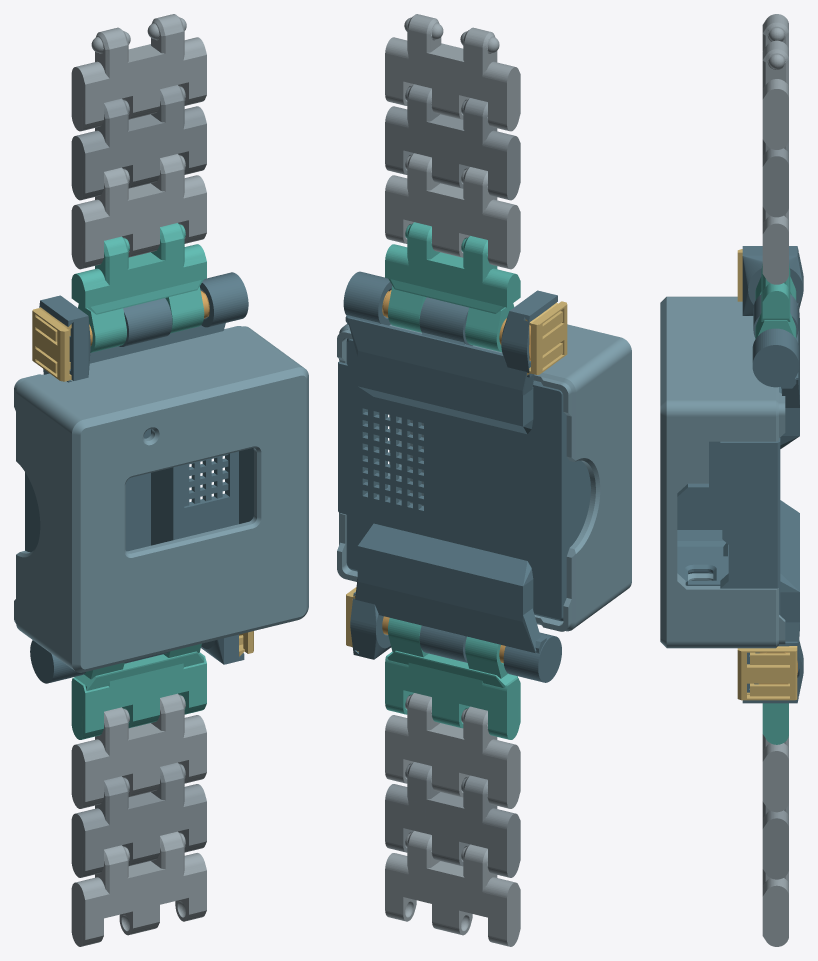
The model's file is 装配预览.glb.
3 renders of one model, left to right at view 1: azimuth 30°, elevation 25°; view 2: azimuth 150°, elevation 25°; view 3: azimuth 270°, elevation 25°, orthographic. The views are drawn at different scales.
Parts seen in each view (by area): view 1: Original front, Modified rear, Adapter A, Reference link A3, Reference link B3, Reference link B2, Reference link A1, Reference link A2, Reference link B1, Adapter B, Locking cap A; view 2: Modified rear, Original front, Adapter A, Reference link A3, Adapter B, Reference link B3, Reference link A1, Reference link A2, Reference link B2, Reference link B1, Locking cap A; view 3: Original front, Modified rear, Reference link A3, Locking cap B, Adapter A, Reference link A2, Reference link A1, Reference link B2, Reference link B3, Reference link B1, Adapter B.
Part boxes in pixels (bbox=[...]): Original front: bbox=[14, 326, 308, 672]; Modified rear: bbox=[25, 272, 253, 683]; Adapter A: bbox=[71, 223, 206, 352]; Reference link A3: bbox=[71, 14, 206, 131]; Reference link B3: bbox=[71, 831, 206, 946]; Reference link B2: bbox=[71, 762, 206, 877]; Reference link A1: bbox=[71, 154, 206, 269]; Reference link A2: bbox=[71, 85, 206, 200]; Reference link B1: bbox=[71, 693, 206, 808]; Adapter B: bbox=[71, 643, 206, 739]; Locking cap A: bbox=[32, 307, 71, 381]; Modified rear: bbox=[338, 271, 590, 682]; Original front: bbox=[337, 324, 631, 631]; Adapter A: bbox=[385, 222, 520, 352]; Reference link A3: bbox=[385, 14, 520, 131]; Adapter B: bbox=[385, 618, 520, 739]; Reference link B3: bbox=[385, 831, 520, 946]; Reference link A1: bbox=[385, 153, 520, 269]; Reference link A2: bbox=[385, 84, 520, 200]; Reference link B2: bbox=[385, 762, 520, 877]; Reference link B1: bbox=[385, 693, 520, 808]; Locking cap A: bbox=[525, 301, 567, 374]; Original front: bbox=[660, 296, 785, 648]; Modified rear: bbox=[677, 246, 803, 703]; Reference link A3: bbox=[762, 14, 788, 149]; Locking cap B: bbox=[737, 646, 797, 700]; Adapter A: bbox=[755, 264, 796, 338]; Reference link A2: bbox=[762, 139, 788, 217]; Reference link A1: bbox=[762, 207, 788, 284]; Reference link B2: bbox=[762, 801, 788, 879]; Reference link B3: bbox=[762, 869, 788, 946]; Reference link B1: bbox=[762, 734, 788, 812]; Adapter B: bbox=[762, 703, 788, 744].
Size of the model in its own units: 42.4 by 155 by 22.7.
